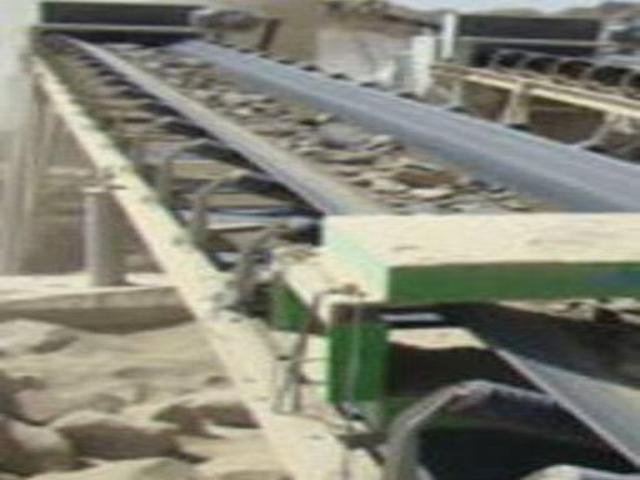conveyor: (21, 36, 623, 480)
